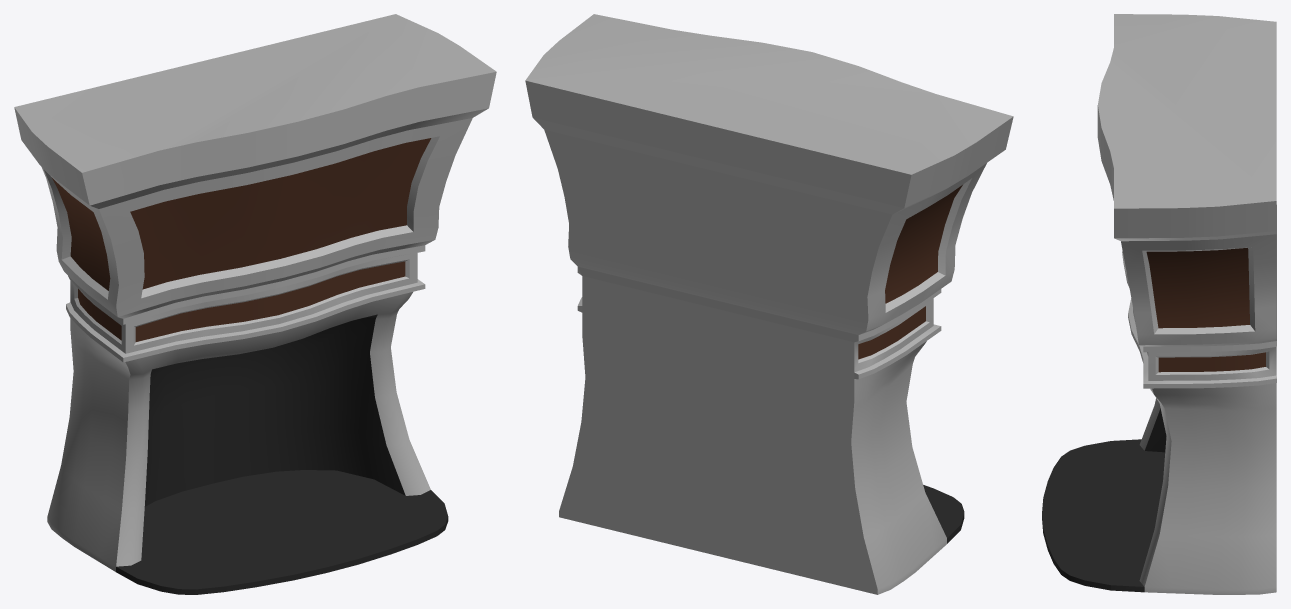
Rendered from BallroomFireplaceUV.fbx.
3 views of the same model, side by side, from view 1: azimuth 30°, elevation 25°; view 2: azimuth 150°, elevation 25°; view 3: azimuth 270°, elevation 25° (orthographic). The views are drawn at different scales.
Parts seen in each view (by area): view 1: LargeFireplace:RoadKillOut; view 2: LargeFireplace:RoadKillOut; view 3: LargeFireplace:RoadKillOut.
Part boxes in pixels (x1,y1,x2,y2): LargeFireplace:RoadKillOut: (14,14,496,594); LargeFireplace:RoadKillOut: (525,14,1013,594); LargeFireplace:RoadKillOut: (1042,14,1276,594).
Bounding box in the file's own units: 771 × 764 × 393.
